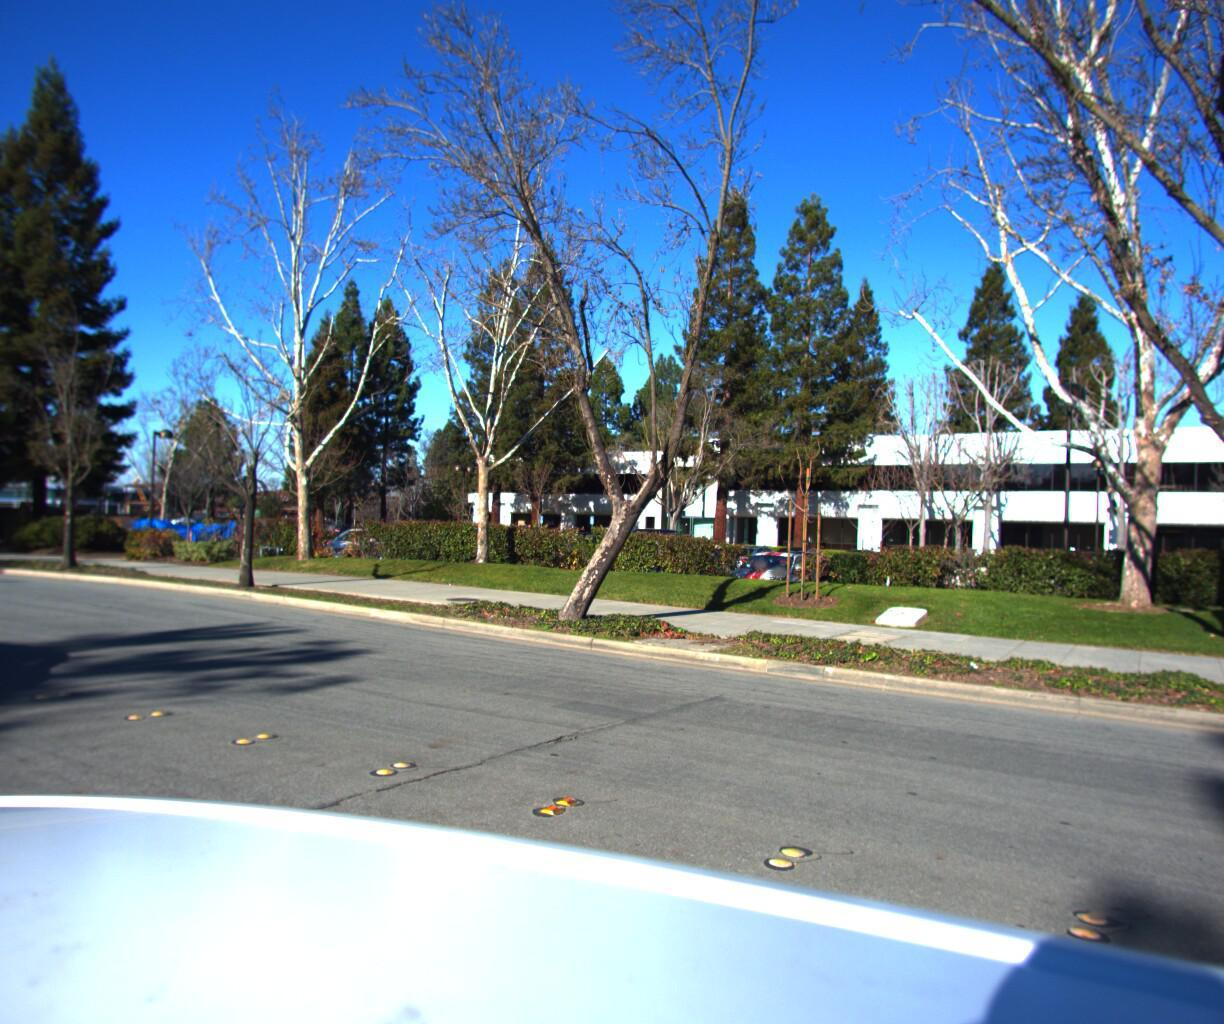car: (715, 541, 833, 598), (295, 519, 419, 567)
